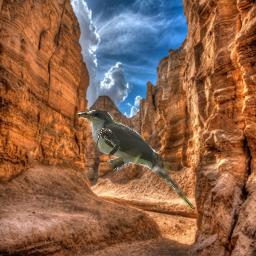Cuckoo: (77, 109, 195, 210)
